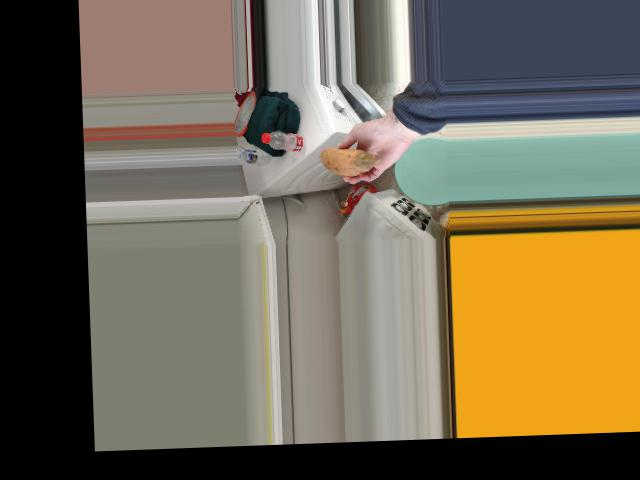sweet_potato: (315, 142, 383, 173)
